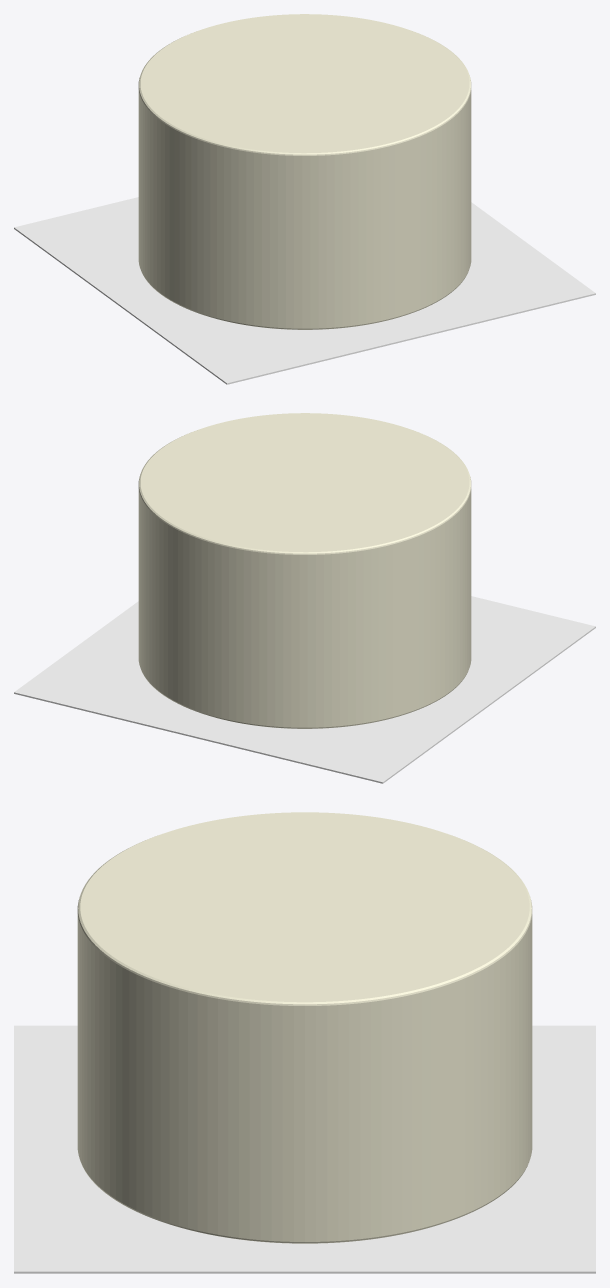
The model's file is cake_8in_layers3_v26.glb.
3 renders of one model, top to bottom at view 1: azimuth 30°, elevation 25°; view 2: azimuth 150°, elevation 25°; view 3: azimuth 270°, elevation 25°, orthographic. The views are drawn at different scales.
Visible parts, largest first — view 1: Cake, Board; view 2: Cake, Board; view 3: Cake, Board.
Part boxes in pixels (box(x1,y1,x2,y2)): Cake: box(138, 14, 471, 329); Board: box(14, 197, 595, 384); Cake: box(138, 413, 471, 728); Board: box(14, 596, 595, 783); Cake: box(77, 812, 532, 1243); Board: box(14, 1025, 595, 1273).
Bounding box in the file's own units: 0.26 × 0.12 × 0.26.
